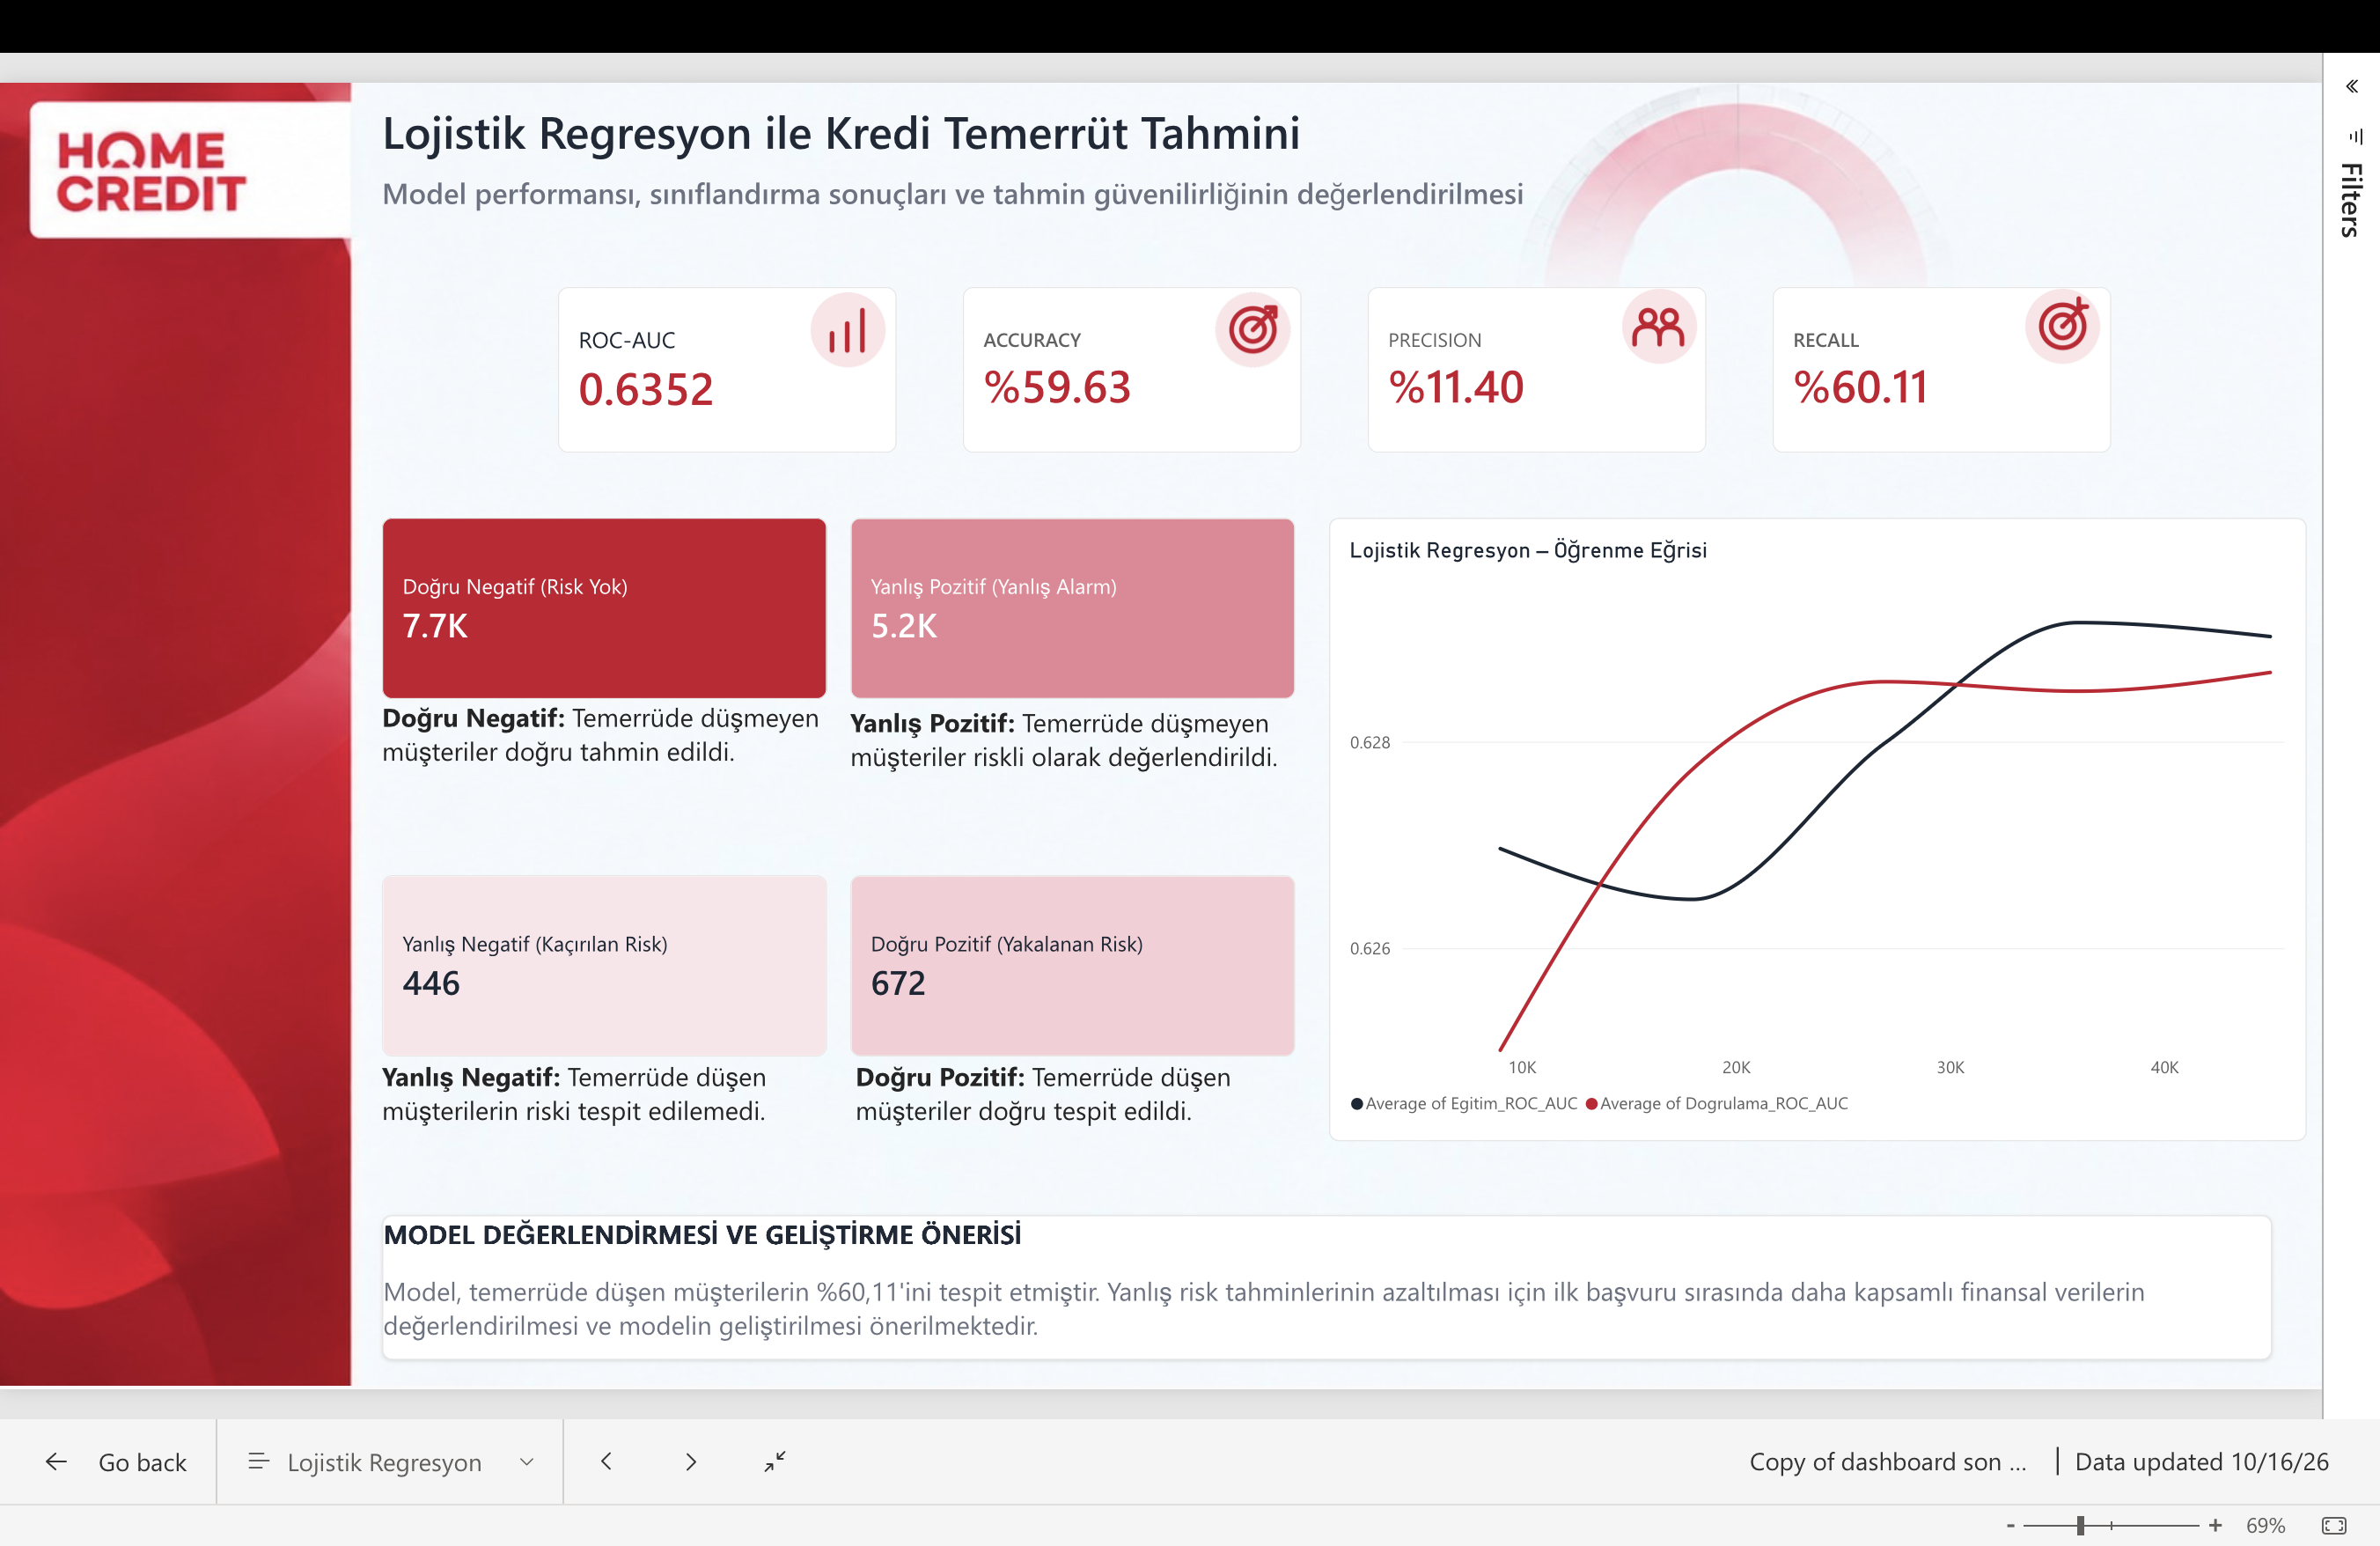

This screenshot's page, from the dashboard's own definition file:
{"tool":"powerbi","page":{"name":"Lojistik Regresyon","canvas":[1920,1080],"ordinal":5},"visuals":[{"type":"cardVisual","fields":{"Data":["home_credit_model_sonuclari.ROC_AUC"]},"box":[461.4,168.6,280,137.1],"z":0},{"type":"cardVisual","fields":{"Data":["home_credit_model_sonuclari.Accuracy"]},"box":[796.2,168.6,280,137.1],"z":1000},{"type":"cardVisual","fields":{"Data":["home_credit_model_sonuclari.Recall"]},"box":[1465.7,168.6,280,137.1],"z":2000},{"type":"cardVisual","fields":{"Data":["home_credit_model_sonuclari.Precision"]},"box":[1131,168.6,280,137.1],"z":3000},{"type":"cardVisual","title":"Doğru Negatif (Risk Yok)","fields":{"Data":["home_credit_model_sonuclari.Dogru_Negatif"]},"box":[315.7,360,368.6,150],"z":4000},{"type":"cardVisual","title":"Yanlış Pozitif (Yanlış Alarm)","fields":{"Data":["home_credit_model_sonuclari.Yanlis_Pozitif"]},"box":[702.9,360,368.6,150],"z":5000},{"type":"cardVisual","title":"Doğru Pozitif (Yakalanan Risk)","fields":{"Data":["home_credit_model_sonuclari.Dogru_Pozitif"]},"box":[702.9,655.7,368.6,150],"z":6000},{"type":"cardVisual","title":"Yanlış Negatif (Kaçırılan Risk)","fields":{"Data":["home_credit_model_sonuclari.Yanlis_Negatif"]},"box":[315.7,655.7,368.6,150],"z":7000},{"type":"lineChart","title":"Lojistik Regresyon – Öğrenme Eğrisi","fields":{"Category":["home_credit_ogrenme_egrisi.Egitim_Ornegi"],"Y":["Avg(home_credit_ogrenme_egrisi.Egitim_ROC_AUC)","Avg(home_credit_ogrenme_egrisi.Dogrulama_ROC_AUC)"]},"box":[1098.6,360,808.6,515.7],"z":8000},{"type":"image","box":[662.9,171.4,78,65],"z":9000},{"type":"image","box":[997.1,171.4,78,65],"z":10000},{"type":"image","box":[1332.9,168.6,78,65],"z":11000},{"type":"image","box":[1667.1,168.6,78,65],"z":12000},{"type":"textbox","box":[150,70,520,110],"z":13000},{"type":"textbox","box":[315.7,14.3,877.1,71.4],"z":14000},{"type":"textbox","box":[315.7,74.3,1274.5,51],"z":15000},{"type":"textbox","box":[315.7,510,368.6,104.3],"z":16000},{"type":"textbox","box":[702.9,514.3,368.6,104.3],"z":17000},{"type":"textbox","box":[315.7,805.7,368.6,104.3],"z":18000},{"type":"textbox","box":[707.1,805.7,368.6,104.3],"z":19000},{"type":"textbox","box":[315.7,935.7,1562.9,120],"z":19001}]}

Visuals, with their boxes on the page's 1920x1080 design canvas (x1, y1, x2, y2). These are canvas units, not pixel positions in the 2380x1546 screenshot, which may show the page scaled, cropped or inside an application window:
cardVisual - home_credit_model_sonuclari.ROC_AUC: crop(461, 169, 741, 306)
cardVisual - home_credit_model_sonuclari.Accuracy: crop(796, 169, 1076, 306)
cardVisual - home_credit_model_sonuclari.Recall: crop(1466, 169, 1746, 306)
cardVisual - home_credit_model_sonuclari.Precision: crop(1131, 169, 1411, 306)
"Doğru Negatif (Risk Yok)" cardVisual: crop(316, 360, 684, 510)
"Yanlış Pozitif (Yanlış Alarm)" cardVisual: crop(703, 360, 1072, 510)
"Doğru Pozitif (Yakalanan Risk)" cardVisual: crop(703, 656, 1072, 806)
"Yanlış Negatif (Kaçırılan Risk)" cardVisual: crop(316, 656, 684, 806)
"Lojistik Regresyon – Öğrenme Eğrisi" lineChart: crop(1099, 360, 1907, 876)
image: crop(663, 171, 741, 236)
image: crop(997, 171, 1075, 236)
image: crop(1333, 169, 1411, 234)
image: crop(1667, 169, 1745, 234)
textbox: crop(150, 70, 670, 180)
textbox: crop(316, 14, 1193, 86)
textbox: crop(316, 74, 1590, 125)
textbox: crop(316, 510, 684, 614)
textbox: crop(703, 514, 1072, 619)
textbox: crop(316, 806, 684, 910)
textbox: crop(707, 806, 1076, 910)
textbox: crop(316, 936, 1879, 1056)
